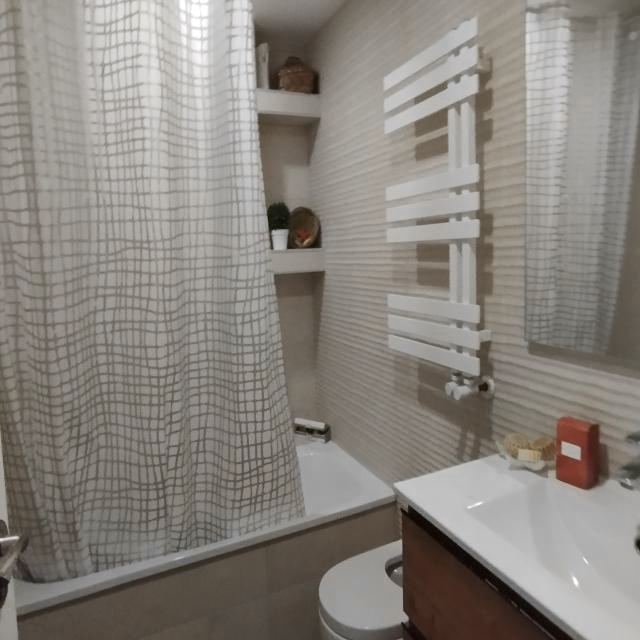wardrobe: (393, 456, 640, 640)
